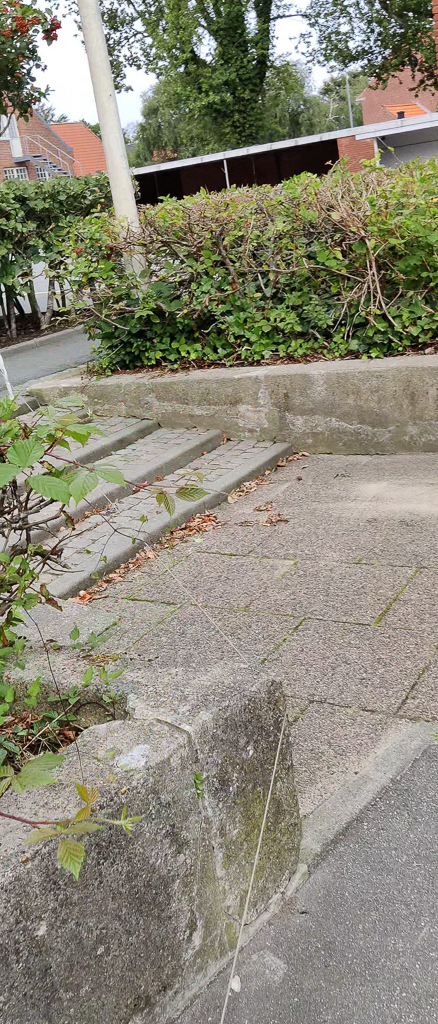Dog: (0, 352, 20, 404)
